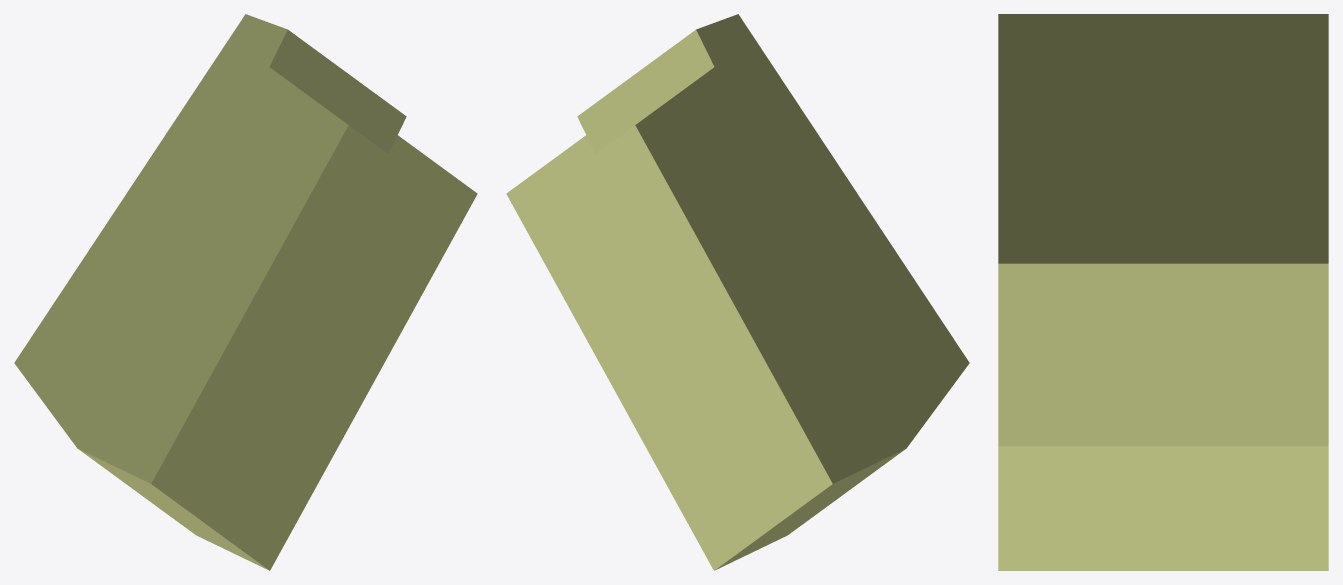
The picture shows the model from 3 angles, left to right: view 1: azimuth 30°, elevation 25°; view 2: azimuth 150°, elevation 25°; view 3: azimuth 270°, elevation 25°; orthographic projection. The views are drawn at different scales.
Parts seen in each view (by area): view 1: 0_0_1_2_0_0_0_0_0; view 2: 0_0_1_2_0_0_0_0_0; view 3: 0_0_1_2_0_0_0_0_0.
Part boxes in pixels (x1,y1,x2,y2): 0_0_1_2_0_0_0_0_0: [14, 14, 477, 570]; 0_0_1_2_0_0_0_0_0: [506, 14, 969, 570]; 0_0_1_2_0_0_0_0_0: [998, 14, 1328, 570].
Size of the model in its own units: 15.07 by 18.67 by 9.
